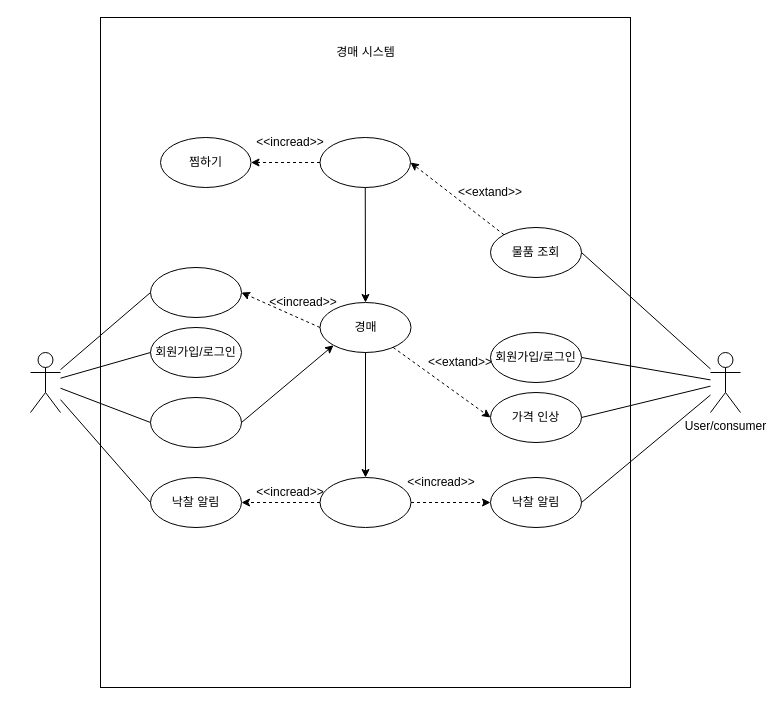
Image size: 783x705. Some labels were removed from this diagram. Each missing label, with the centre of its shape:
User/seller: (45,382)
낙찰: (365,502)
물품 등록: (196,422)
물품 상세 조회: (364,162)
채팅하기: (196,292)
